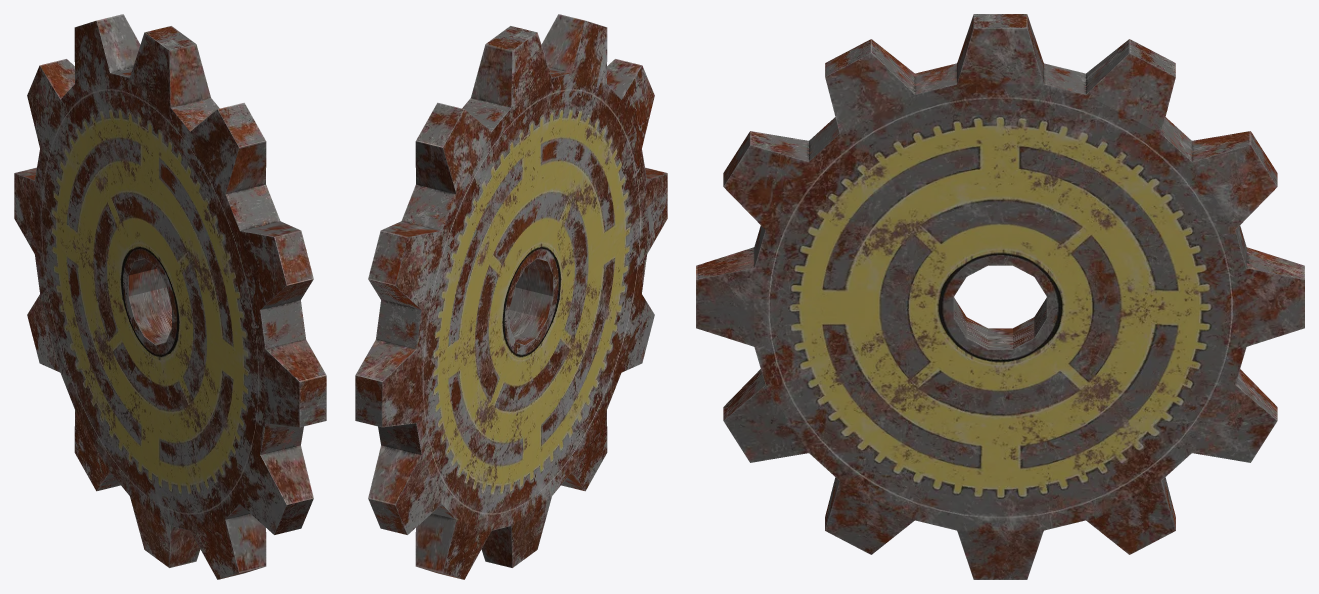
The model's file is service-functional.glb.
The picture shows the model from 3 angles, left to right: view 1: azimuth 30°, elevation 25°; view 2: azimuth 150°, elevation 25°; view 3: azimuth 270°, elevation 25°; orthographic projection. The views are drawn at different scales.
Parts seen in each view (by area): view 1: defaultMaterial; view 2: defaultMaterial; view 3: defaultMaterial.
Boxes of the visible parts, left/top/right/bottom form: defaultMaterial: left=14, top=14, right=326, bottom=579; defaultMaterial: left=355, top=14, right=667, bottom=579; defaultMaterial: left=696, top=14, right=1304, bottom=579.
Size of the model in its own units: 0.1369 by 1.67 by 1.67.
1 material, 1 textured.
